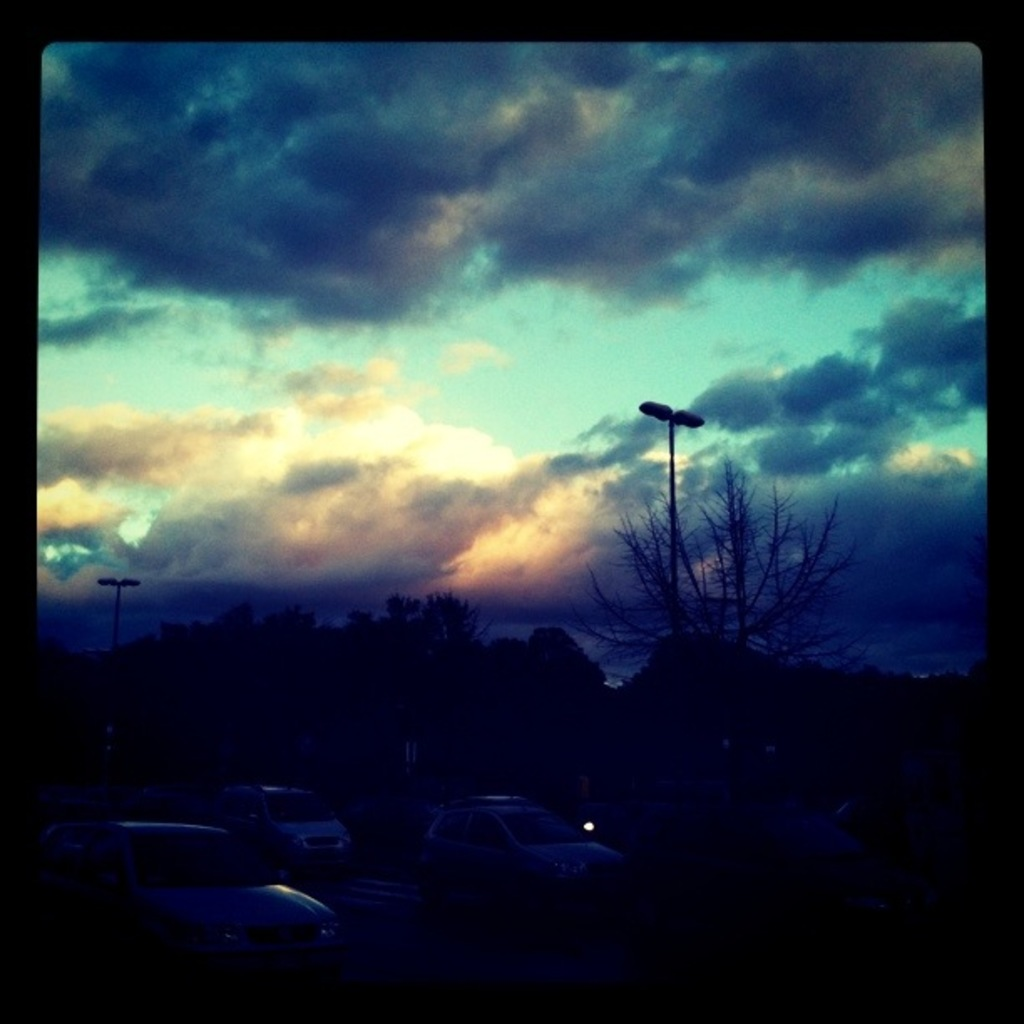Car: (45, 788, 394, 992), (419, 794, 627, 895), (247, 791, 361, 863)
